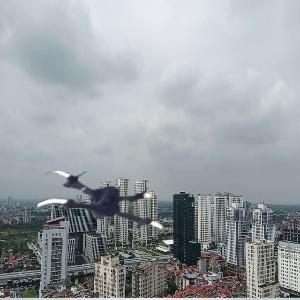drone: (35, 151, 163, 279)
